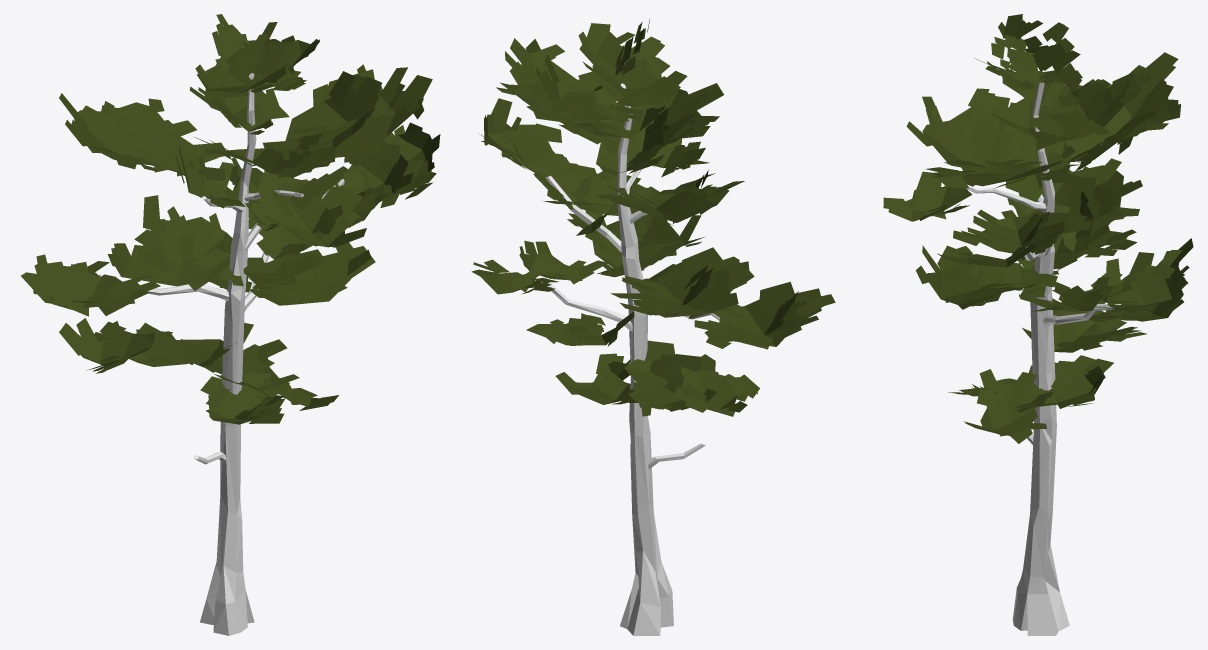
The model's file is tree-pine-young-a.gltf.
The picture shows the model from 3 angles, left to right: view 1: azimuth 30°, elevation 25°; view 2: azimuth 150°, elevation 25°; view 3: azimuth 270°, elevation 25°; orthographic projection. The views are drawn at different scales.
Parts seen in each view (by area): view 1: tree-pine-young-a; view 2: tree-pine-young-a; view 3: tree-pine-young-a.
Boxes of the visible parts, bbox=[...] form: tree-pine-young-a: bbox=[21, 14, 440, 635]; tree-pine-young-a: bbox=[471, 19, 835, 635]; tree-pine-young-a: bbox=[883, 14, 1193, 635].
Bounding box in the file's own units: 0.0383 × 0.0595 × 0.0286.
